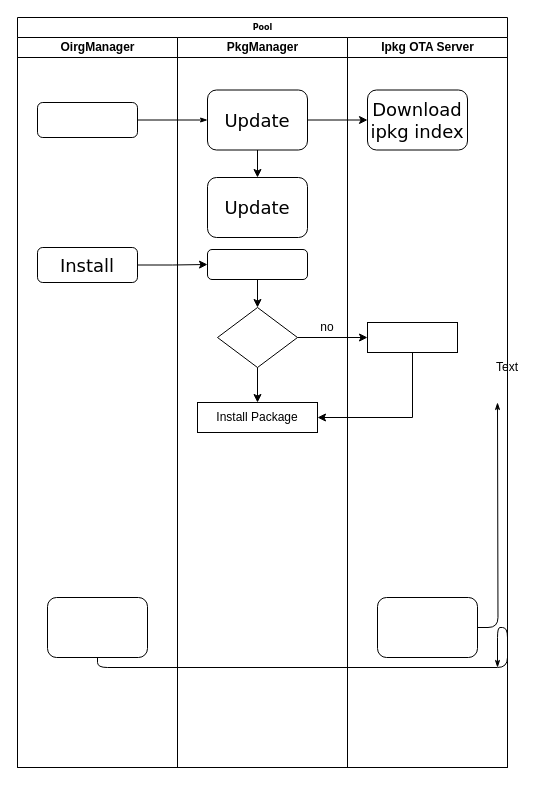
The diagram is 545 pixels wide and 785 high, and some of its shapes have lost their labels. Each missing label, with the centre of its shape:
download ipkg: the point at 412,337
Install_Ipkg: the point at 257,264
Ipkg Exist Local?: the point at 257,337
Start: the point at 87,120
